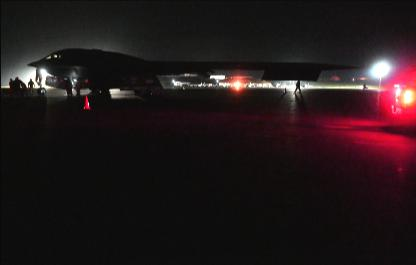B1: (25, 48, 360, 94)
F15: (298, 82, 312, 88), (270, 82, 282, 88), (196, 82, 206, 86), (220, 82, 230, 86), (245, 82, 254, 86)
